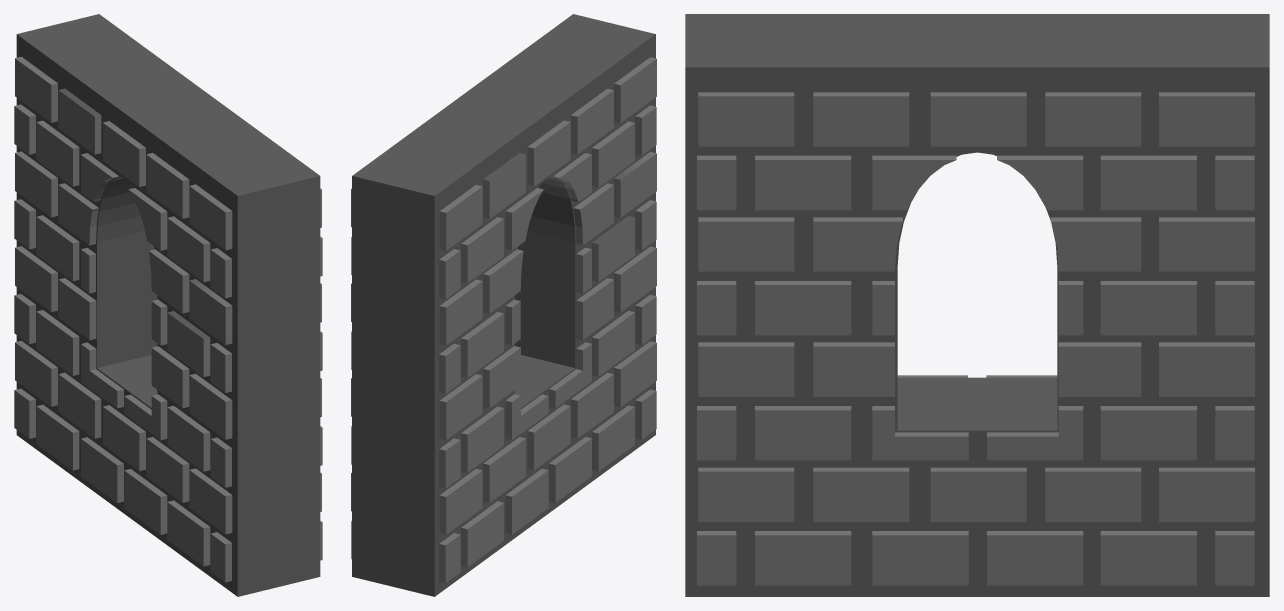
File: windowwall.fbx
The picture shows the model from 3 angles, left to right: view 1: azimuth 30°, elevation 25°; view 2: azimuth 150°, elevation 25°; view 3: azimuth 270°, elevation 25°; orthographic projection. The views are drawn at different scales.
Visible parts, largest first — view 1: window; view 2: window; view 3: window.
Boxes of the visible parts, x1,y1,x2,y2 form: window: (14,14,322,596); window: (351,14,656,596); window: (685,14,1269,596).
Bounding box in the file's own units: 25 × 100 × 100.
